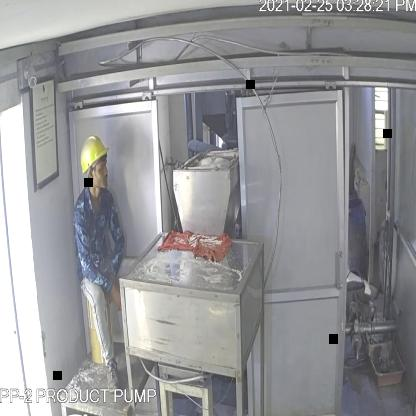helmet: (76, 127, 110, 175)
